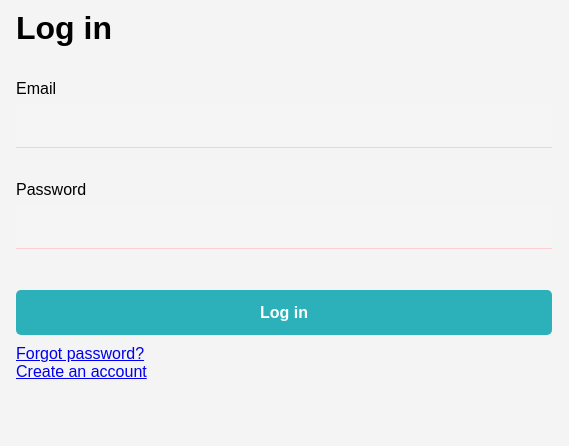
Scenario: login reports a network failure without crashing
The image size is (569, 446).
In the field labelled "Email": [284, 126] box [16,104,552,148], type "test@example.invalid"
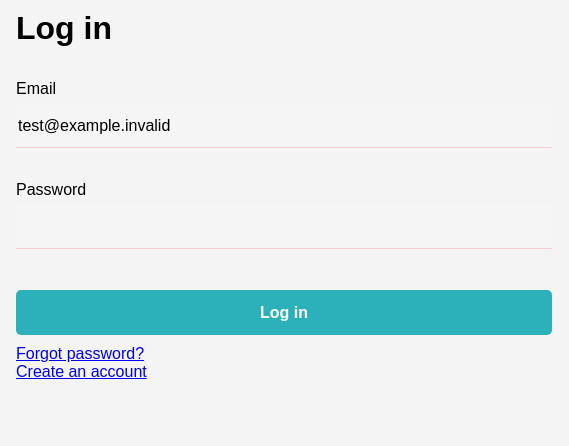
In the password field labelled "Password": [284, 227] box [16,205,552,249], type "test-password"
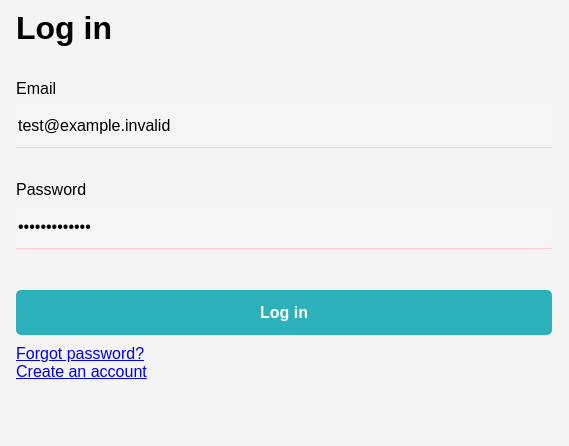
Click the button "Log in": [284, 313] box [16,290,552,335]
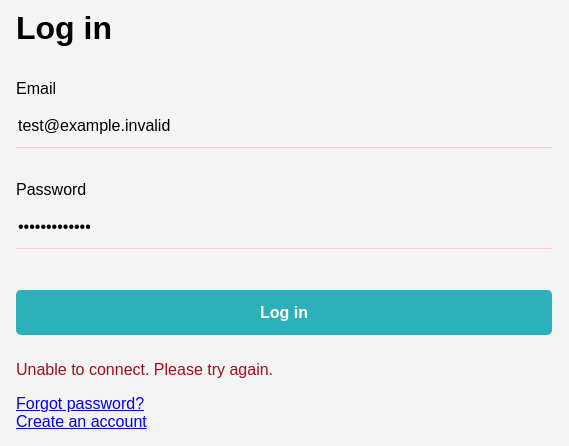
Check: the message "Unable to connect. Please try again." is shown, box [16,361,273,378]
